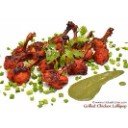chicken_lollipop: (13, 31, 48, 59), (4, 61, 41, 84), (72, 44, 93, 79), (51, 20, 79, 46), (96, 26, 114, 63), (44, 67, 70, 90)
